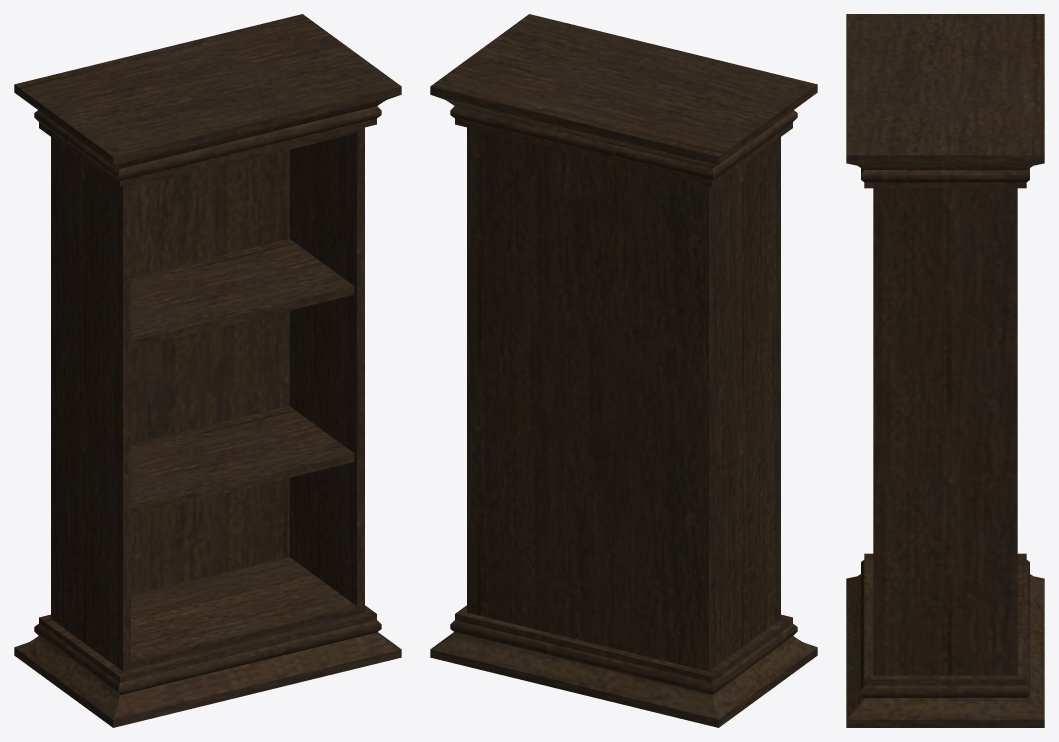
The model's file is shelf_mp_2_1.fbx.
3 renders of one model, left to right at view 1: azimuth 30°, elevation 25°; view 2: azimuth 150°, elevation 25°; view 3: azimuth 270°, elevation 25°, orthographic.
Parts seen in each view (by area): view 1: shelf_mp_2_1; view 2: shelf_mp_2_1; view 3: shelf_mp_2_1.
Part boxes in pixels (left/top/right/bottom): shelf_mp_2_1: left=14, top=14, right=401, bottom=727; shelf_mp_2_1: left=430, top=14, right=817, bottom=727; shelf_mp_2_1: left=846, top=14, right=1044, bottom=727.
Bounding box in the file's own units: 0.74 × 1.4 × 0.44.
